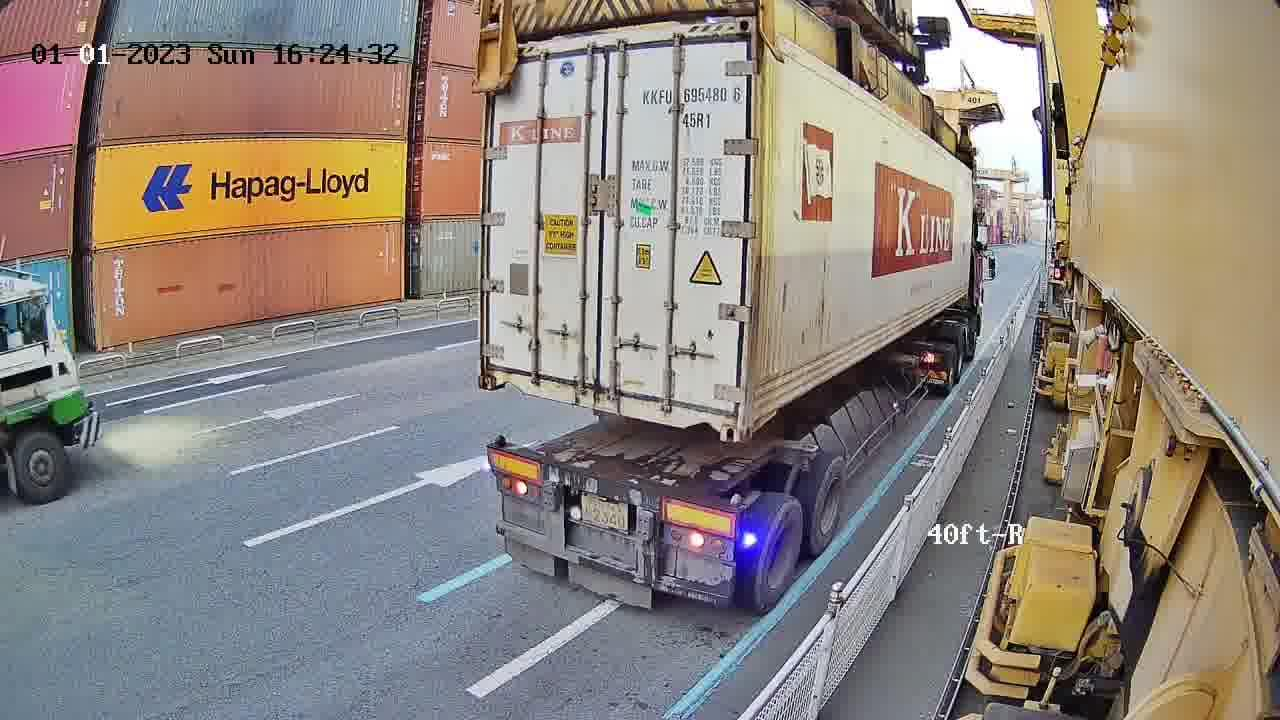Chassis: (485, 448, 737, 540)
Cone: (484, 430, 509, 465), (725, 493, 744, 528)
Hole_L: (479, 345, 520, 392), (741, 384, 774, 441)
Hole_R: (689, 389, 744, 444)
Tire: (752, 499, 802, 603), (808, 459, 851, 549)
